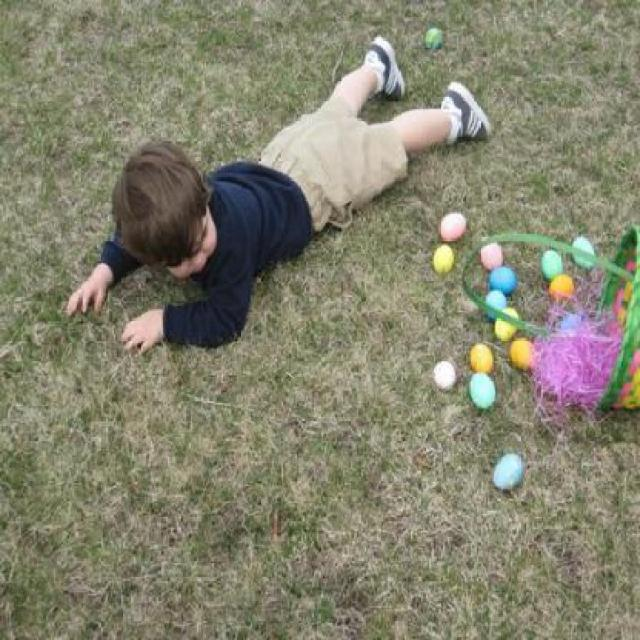fall: (64, 19, 499, 366)
